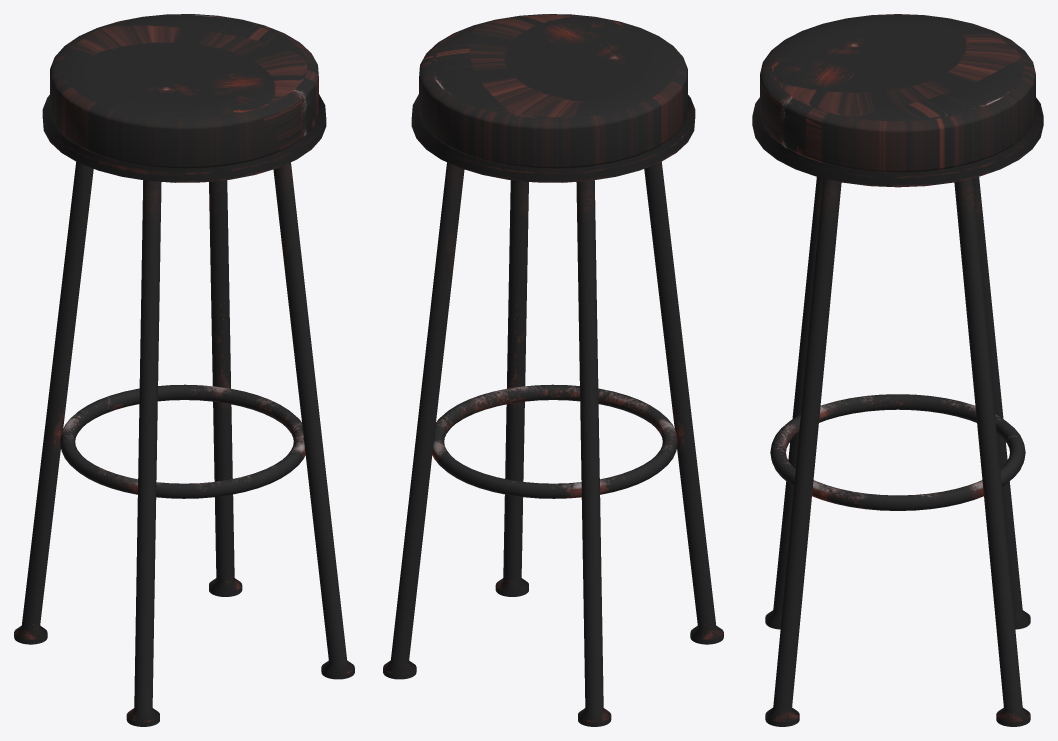
Rendered from Barstool.fbx.
3 views of the same model, side by side, from view 1: azimuth 30°, elevation 25°; view 2: azimuth 150°, elevation 25°; view 3: azimuth 270°, elevation 25° (orthographic). The views are drawn at different scales.
Parts seen in each view (by area): view 1: Cylinder.002, Cylinder; view 2: Cylinder.002, Cylinder; view 3: Cylinder.002, Cylinder.
Boxes of the visible parts, x1,y1,x2,y2 form: Cylinder.002: (14,94,354,726); Cylinder: (50,14,318,168); Cylinder.002: (383,94,723,726); Cylinder: (419,14,687,168); Cylinder.002: (752,97,1043,726); Cylinder: (760,14,1035,172).
Bounding box in the file's own units: 120 × 275 × 120.
